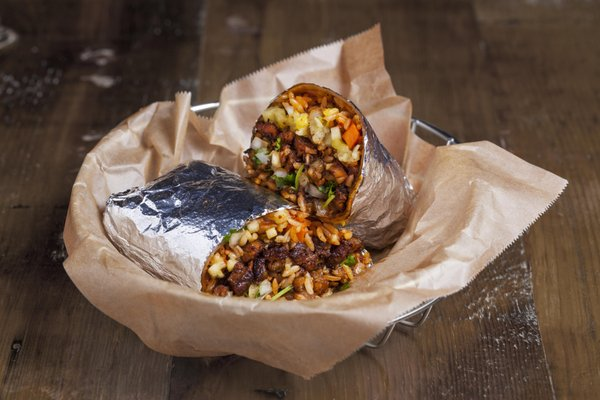curry: (6, 2, 590, 389)
sandwich: (239, 81, 368, 222), (199, 206, 374, 301)
